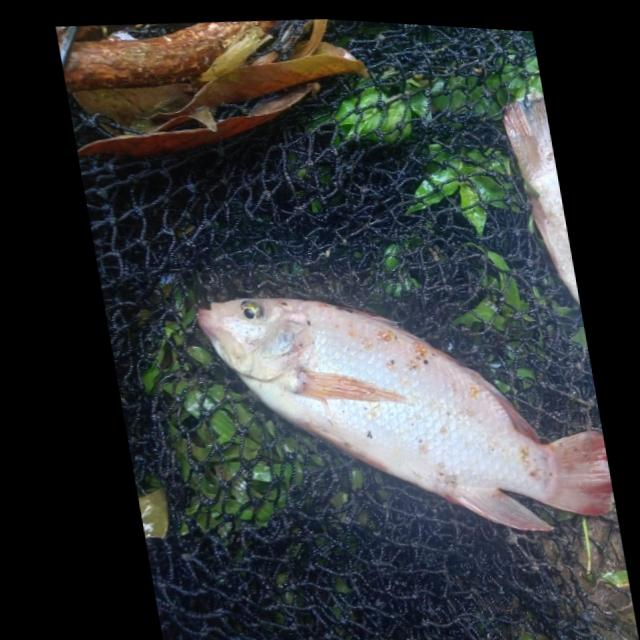Tilapia: (191, 258, 622, 555)
